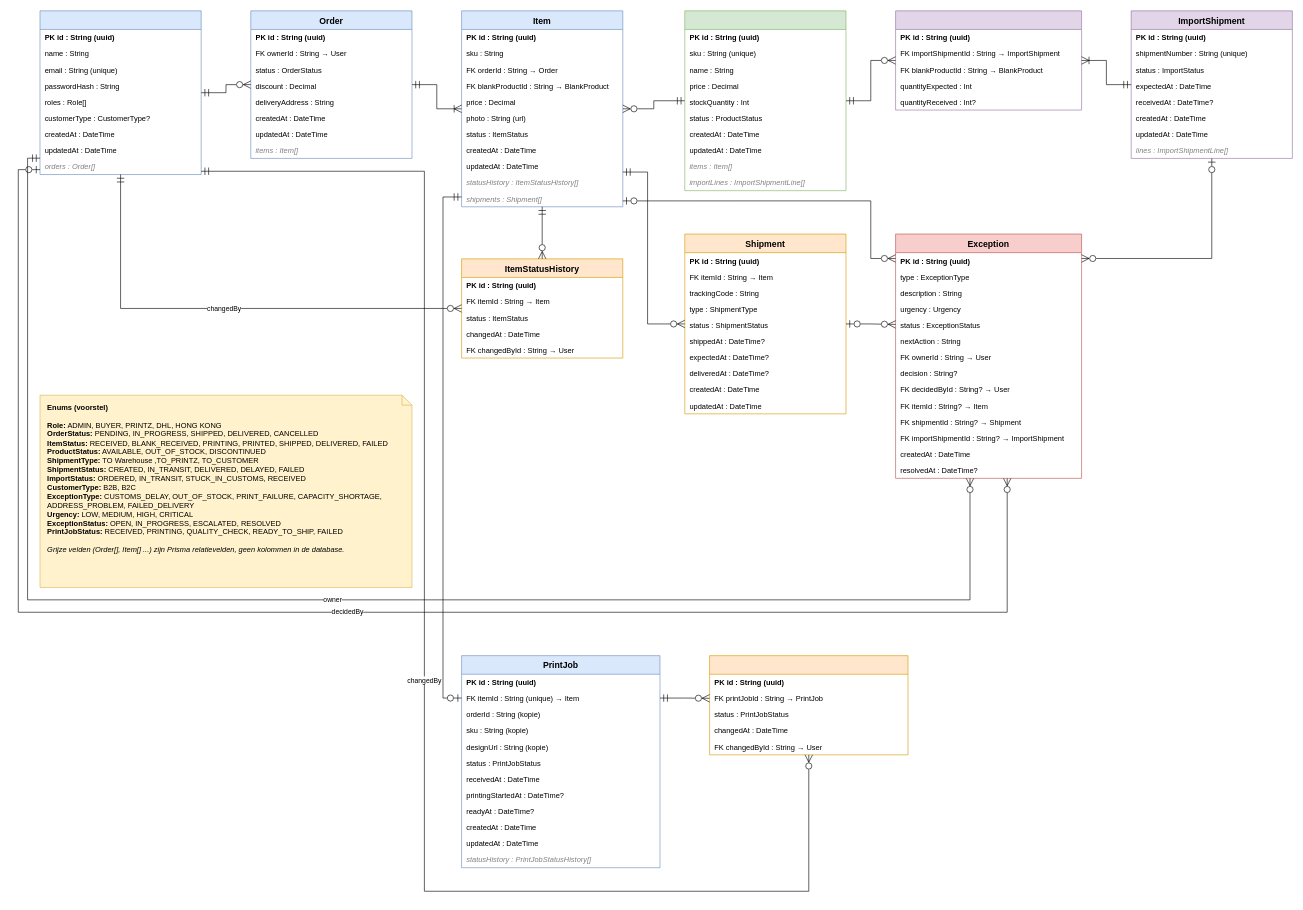
The diagram is 1303 pixels wide and 910 high, and some of its shapes have lost their labels. The shapes that lost their labels are listed below. From the top down, each one's box as (x1, y1, x2, y2) in pixels, then its label:
(895, 10, 1082, 110): ImportShipmentLine
(39, 10, 201, 175): User
(684, 10, 846, 191): BlankProduct
(709, 655, 908, 755): PrintJobStatusHistory
